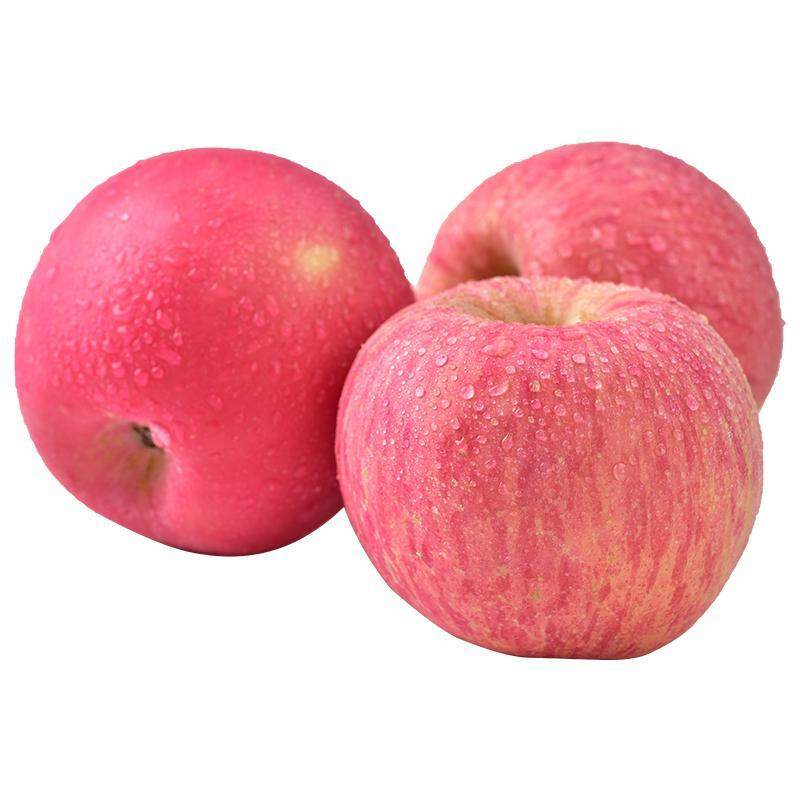apple: (5, 145, 437, 555), (337, 277, 768, 666), (411, 144, 786, 417)
